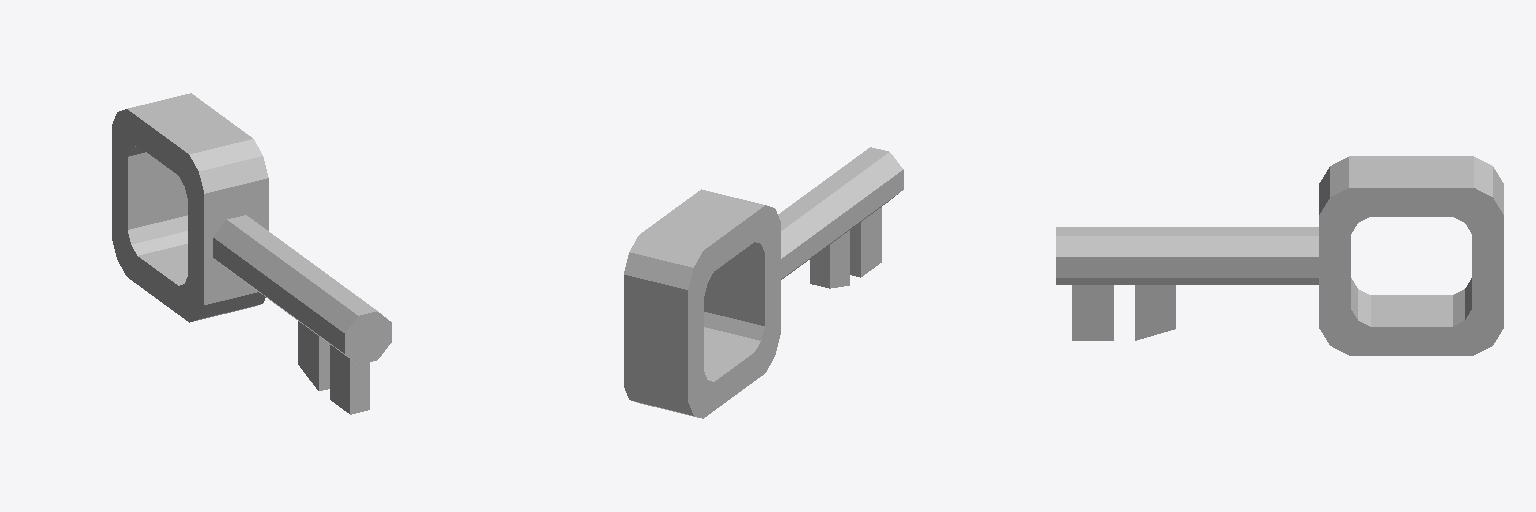
Rendered from key_purple.obj.
3 views of the same model, side by side, from view 1: azimuth 30°, elevation 25°; view 2: azimuth 150°, elevation 25°; view 3: azimuth 270°, elevation 25° (orthographic).
Visible parts, largest first — view 1: Cube.001, Cube.002; view 2: Cube.001, Cube.002; view 3: Cube.001, Cube.002.
Part boxes in pixels (bbox=[...]): Cube.001: bbox=[112, 93, 268, 322]; Cube.002: bbox=[213, 215, 391, 414]; Cube.001: bbox=[624, 189, 780, 418]; Cube.002: bbox=[778, 147, 903, 288]; Cube.001: bbox=[1319, 156, 1503, 355]; Cube.002: bbox=[1056, 227, 1318, 340].
Size of the model in its own units: 0.8028 by 2 by 4.84.